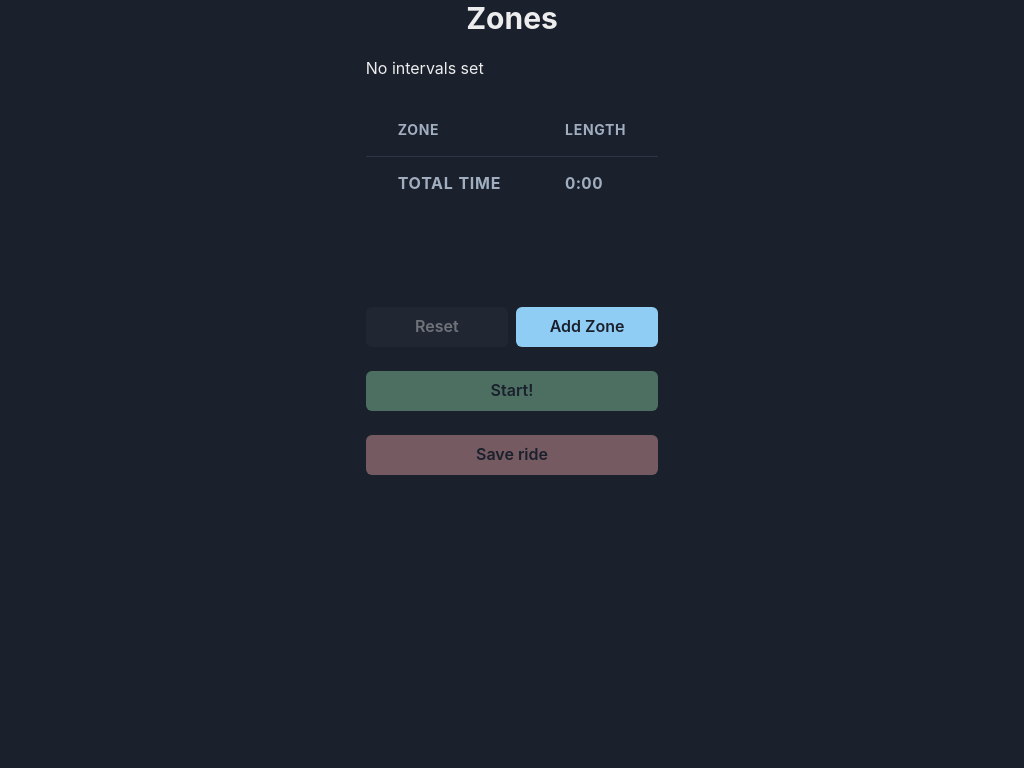
Test: it should display the Add Zone modal when user clicks Add Zone
Click the button "Add Zone": {"x": 587, "y": 327} [516, 307, 658, 347]
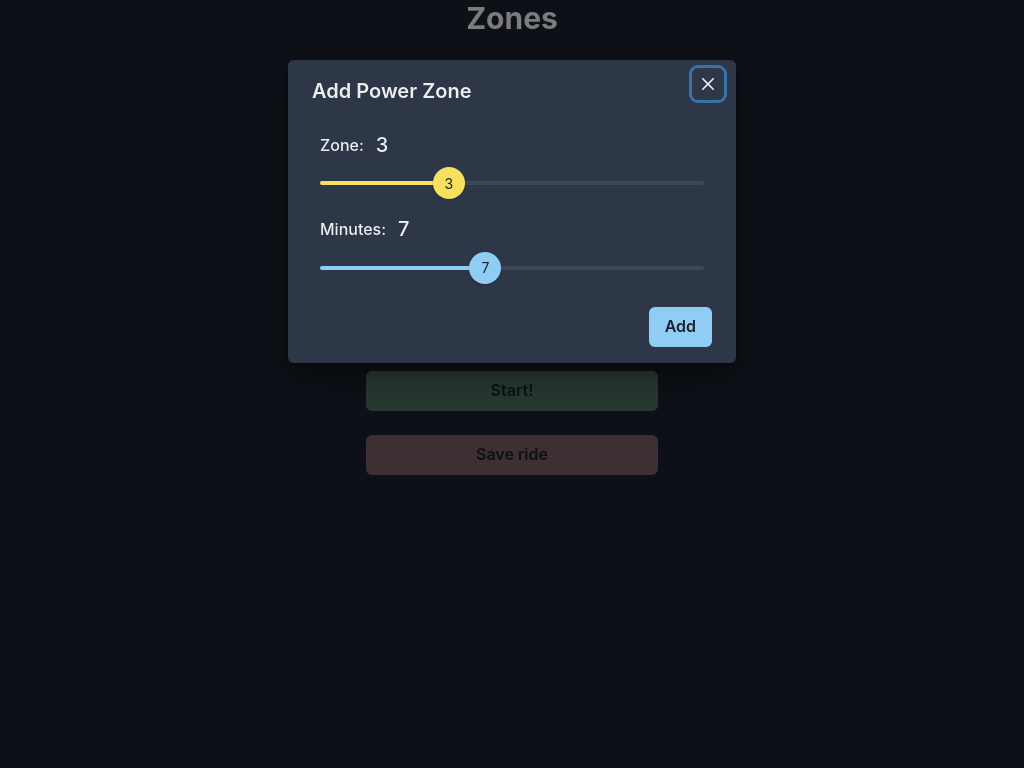
Expected: the text "Add Power Zone" is shown, [312, 79, 472, 103]
Expected: the element with test id "zone-slider" is shown, [320, 168, 704, 198]
Expected: the element with test id "time-slider" is shown, [320, 252, 704, 283]
